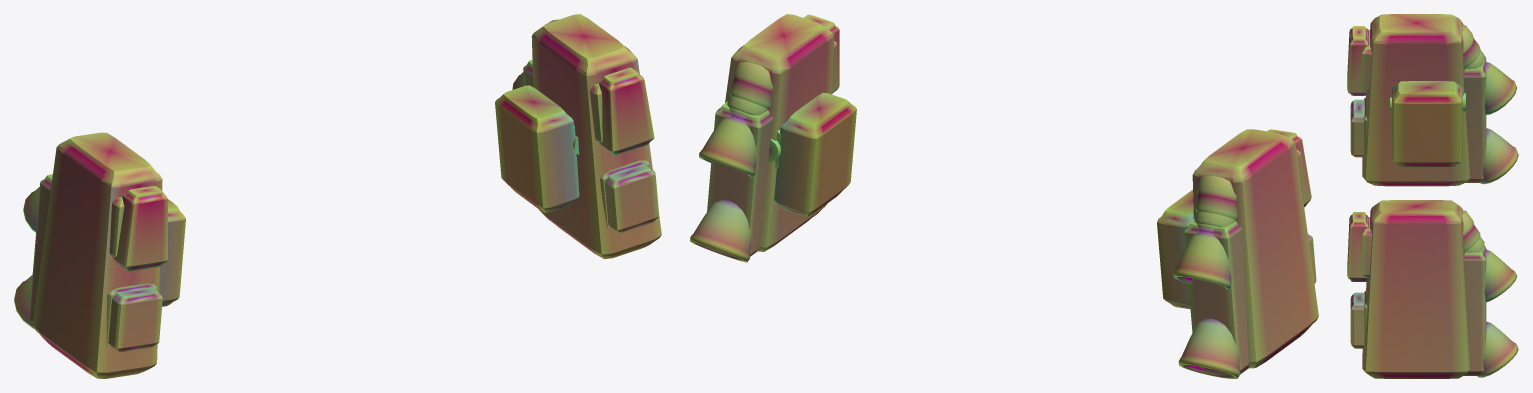
The model's file is llm_gen_leg_thrusters_013_94439e.glb.
3 views of the same model, side by side, from view 1: azimuth 30°, elevation 25°; view 2: azimuth 150°, elevation 25°; view 3: azimuth 270°, elevation 25° (orthographic). The views are drawn at different scales.
Visible parts, largest first — view 1: outer_shin_armor_0_adapter_dark_l, outer_shin_armor_0_adapter_dark_r, adapter_calf_clamp_r, knee_guard_blade_2_gold_l, knee_guard_blade_2_gold_r, lower_shin_bumper_4_amber_optic_l, lower_shin_bumper_4_amber_optic_r, adapter_calf_clamp_l, rear_thruster_manifold_dark_5_adapter_dark_l, rear_surge_bell_bot_7_vernier_bell_vernier_l, knee_guard_adapter_dark_1_adapter_dark_l, knee_guard_adapter_dark_1_adapter_dark_r; view 2: outer_shin_armor_0_adapter_dark_l, outer_shin_armor_0_adapter_dark_r, adapter_calf_clamp_r, rear_thruster_manifold_dark_5_adapter_dark_l, rear_thruster_manifold_dark_5_adapter_dark_r, adapter_calf_clamp_l, rear_surge_bell_bot_7_vernier_bell_vernier_l, rear_surge_bell_bot_7_vernier_bell_vernier_r, rear_surge_bell_top_6_vernier_bell_vernier_r, rear_surge_bell_top_6_vernier_bell_vernier_l, rear_surge_bell_top_6_vernier_bell_gimbal_collar_dark_r, rear_surge_bell_top_6_vernier_bell_gimbal_collar_dark_l (+2 smaller); view 3: outer_shin_armor_0_adapter_dark_r, outer_shin_armor_0_adapter_dark_l, adapter_calf_clamp_l, rear_thruster_manifold_dark_5_adapter_dark_r, rear_thruster_manifold_dark_5_adapter_dark_l, rear_surge_bell_bot_7_vernier_bell_vernier_l, rear_surge_bell_bot_7_vernier_bell_vernier_r, rear_surge_bell_top_6_vernier_bell_vernier_l, knee_guard_blade_2_gold_l, knee_guard_blade_2_gold_r, rear_surge_bell_top_6_vernier_bell_vernier_r, lower_shin_bumper_4_amber_optic_l (+7 smaller).
Part boxes in pixels (left/top/right/bottom): outer_shin_armor_0_adapter_dark_l: left=32, top=132, right=162, bottom=378; outer_shin_armor_0_adapter_dark_r: left=531, top=14, right=661, bottom=259; adapter_calf_clamp_r: left=495, top=85, right=579, bottom=212; knee_guard_blade_2_gold_l: left=113, top=186, right=167, bottom=271; knee_guard_blade_2_gold_r: left=599, top=67, right=654, bottom=155; lower_shin_bumper_4_amber_optic_l: left=108, top=287, right=162, bottom=352; lower_shin_bumper_4_amber_optic_r: left=605, top=164, right=659, bottom=232; adapter_calf_clamp_l: left=159, top=199, right=185, bottom=306; rear_thruster_manifold_dark_5_adapter_dark_l: left=29, top=174, right=52, bottom=322; rear_surge_bell_bot_7_vernier_bell_vernier_l: left=14, top=275, right=33, bottom=328; knee_guard_adapter_dark_1_adapter_dark_l: left=109, top=197, right=124, bottom=257; knee_guard_adapter_dark_1_adapter_dark_r: left=589, top=83, right=602, bottom=142; outer_shin_armor_0_adapter_dark_l: left=1192, top=129, right=1318, bottom=368; outer_shin_armor_0_adapter_dark_r: left=725, top=14, right=833, bottom=251; adapter_calf_clamp_r: left=774, top=92, right=856, bottom=216; rear_thruster_manifold_dark_5_adapter_dark_l: left=1184, top=219, right=1249, bottom=375; rear_thruster_manifold_dark_5_adapter_dark_r: left=707, top=101, right=773, bottom=256; adapter_calf_clamp_l: left=1157, top=190, right=1193, bottom=309; rear_surge_bell_bot_7_vernier_bell_vernier_l: left=1178, top=318, right=1240, bottom=378; rear_surge_bell_bot_7_vernier_bell_vernier_r: left=690, top=200, right=751, bottom=262; rear_surge_bell_top_6_vernier_bell_vernier_r: left=699, top=107, right=756, bottom=176; rear_surge_bell_top_6_vernier_bell_vernier_l: left=1173, top=223, right=1231, bottom=289; rear_surge_bell_top_6_vernier_bell_gimbal_collar_dark_r: left=729, top=62, right=773, bottom=108; rear_surge_bell_top_6_vernier_bell_gimbal_collar_dark_l: left=1195, top=175, right=1237, bottom=219; outer_shin_armor_0_adapter_dark_r: left=1362, top=200, right=1470, bottom=378; outer_shin_armor_0_adapter_dark_l: left=1362, top=14, right=1470, bottom=186; adapter_calf_clamp_l: left=1392, top=81, right=1462, bottom=166; rear_thruster_manifold_dark_5_adapter_dark_r: left=1463, top=247, right=1486, bottom=375; rear_thruster_manifold_dark_5_adapter_dark_l: left=1463, top=55, right=1486, bottom=182; rear_surge_bell_bot_7_vernier_bell_vernier_l: left=1479, top=128, right=1518, bottom=184; rear_surge_bell_bot_7_vernier_bell_vernier_r: left=1477, top=321, right=1518, bottom=377; rear_surge_bell_top_6_vernier_bell_vernier_l: left=1481, top=58, right=1516, bottom=115; knee_guard_blade_2_gold_l: left=1347, top=26, right=1368, bottom=95; knee_guard_blade_2_gold_r: left=1347, top=212, right=1368, bottom=281; rear_surge_bell_top_6_vernier_bell_vernier_r: left=1481, top=245, right=1516, bottom=302; lower_shin_bumper_4_amber_optic_l: left=1350, top=99, right=1364, bottom=157.
Bounding box in the file's own units: 80.86 × 28.07 × 26.6.
